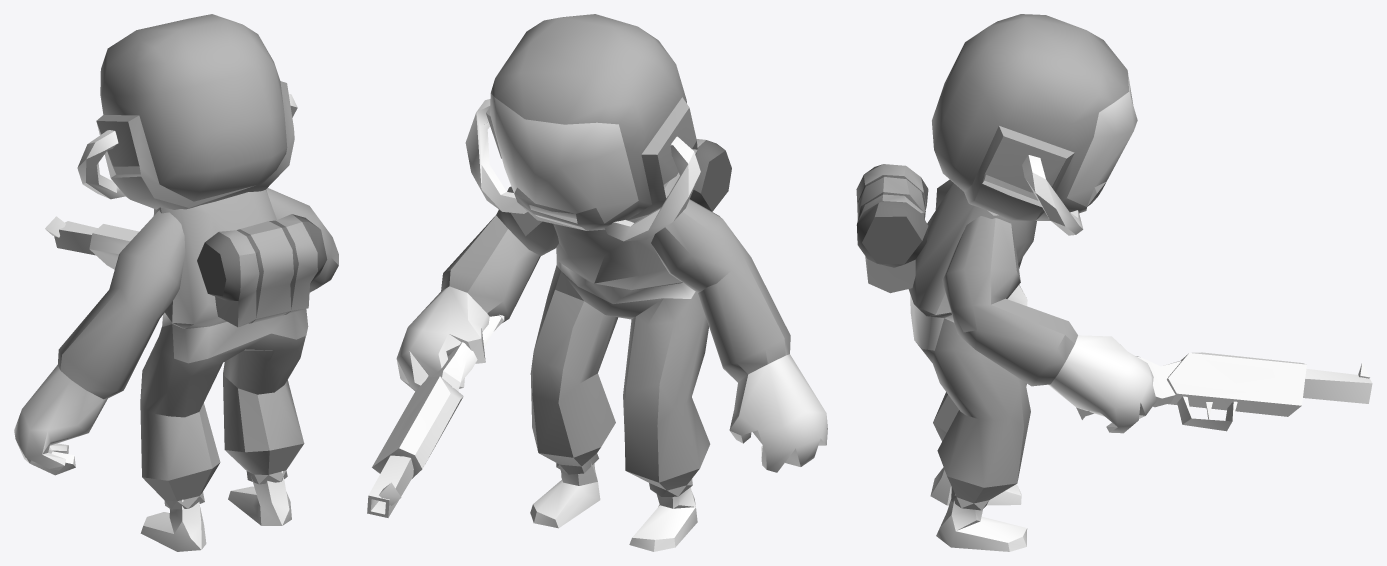
The model's file is clearance_engineer.glb.
3 views of the same model, side by side, from view 1: azimuth 30°, elevation 25°; view 2: azimuth 150°, elevation 25°; view 3: azimuth 270°, elevation 25° (orthographic). The views are drawn at different scales.
Visible parts, largest first — view 1: Body; view 2: Body; view 3: Body.
Boxes of the visible parts, x1,y1,x2,y2 form: Body: [14, 14, 338, 551]; Body: [367, 14, 827, 551]; Body: [856, 14, 1372, 551].
Bounding box in the file's own units: 1.3 × 1.8 × 1.7.
Materials: 2 (1 with a texture image).
